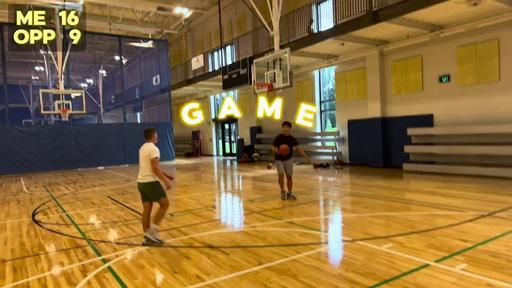ball: (279, 144, 290, 155), (267, 162, 273, 170)
human: (138, 128, 174, 246), (270, 121, 310, 201)
rim: (255, 83, 273, 96), (60, 109, 70, 121)
